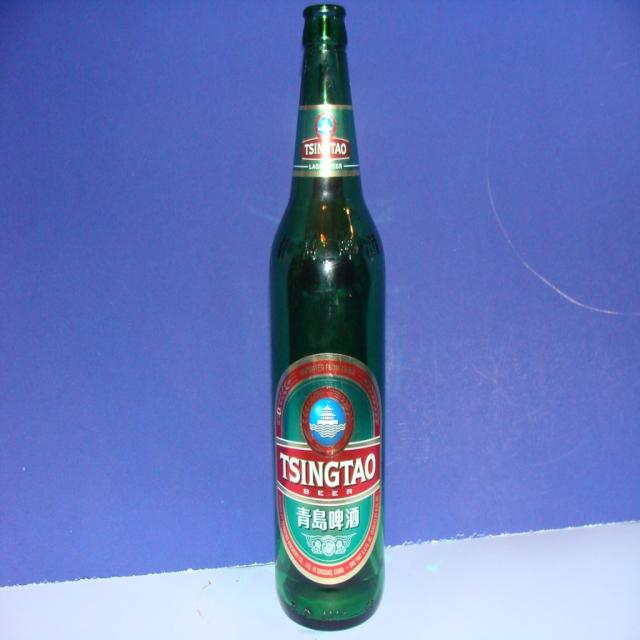tsingtao: (272, 353, 385, 587)
